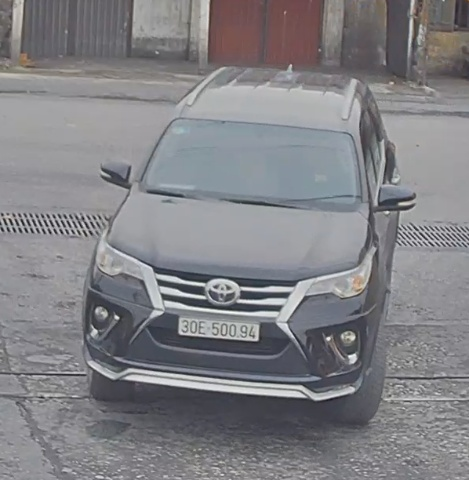vehicle plate: (175, 310, 263, 343)
